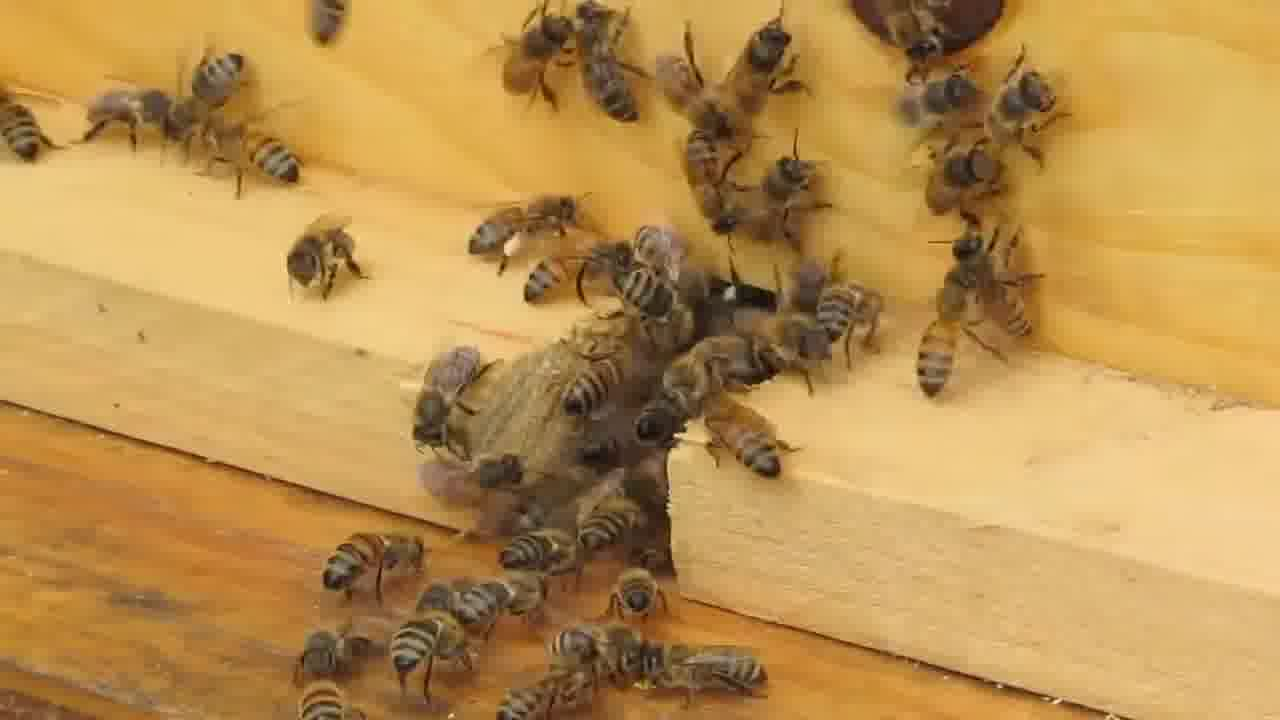pollen: (473, 188, 587, 261)
